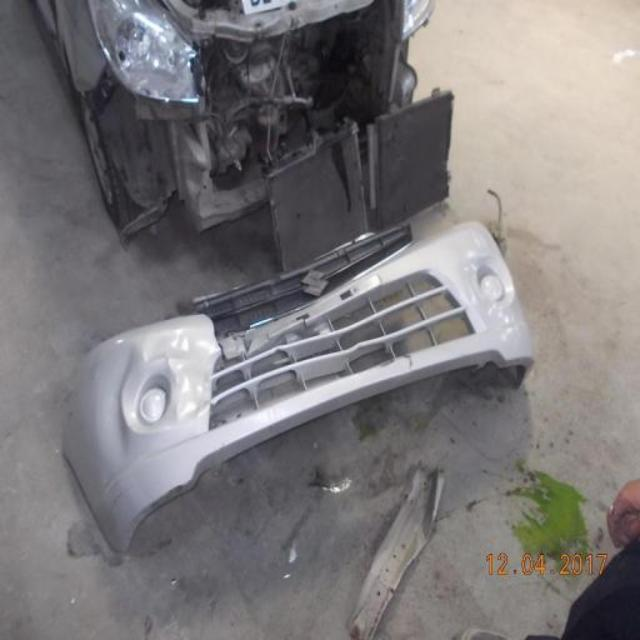no part: (91, 1, 409, 218)
